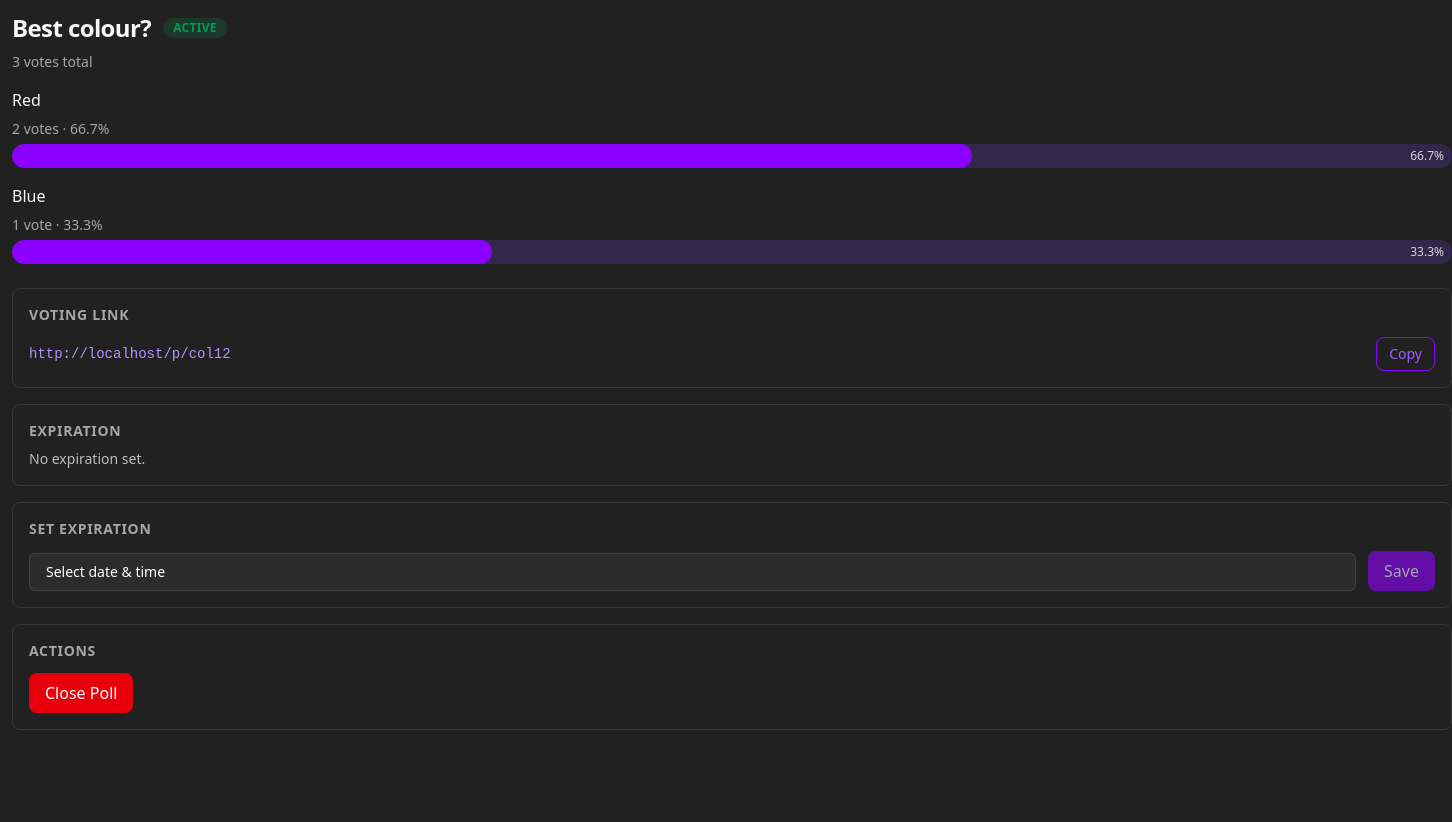
Test case: ManagePage › shows error message when close fails
The width and height of the screenshot is (1452, 822).
Click the button "Close Poll" at coordinates (81, 693), box [29,673,133,713]
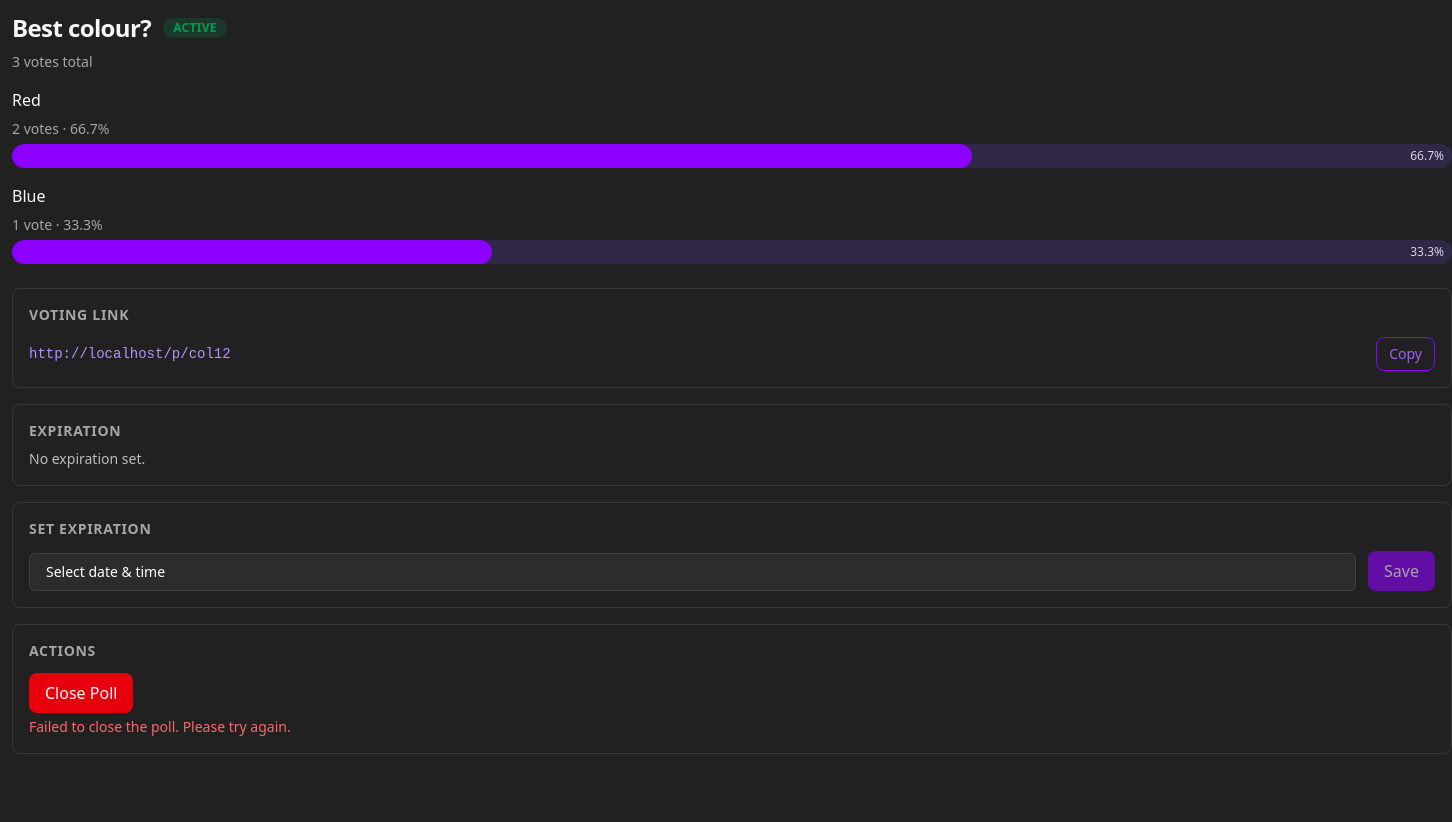
Result: the text "Failed to close the poll. Please try again." is shown at [29,717,291,736]
